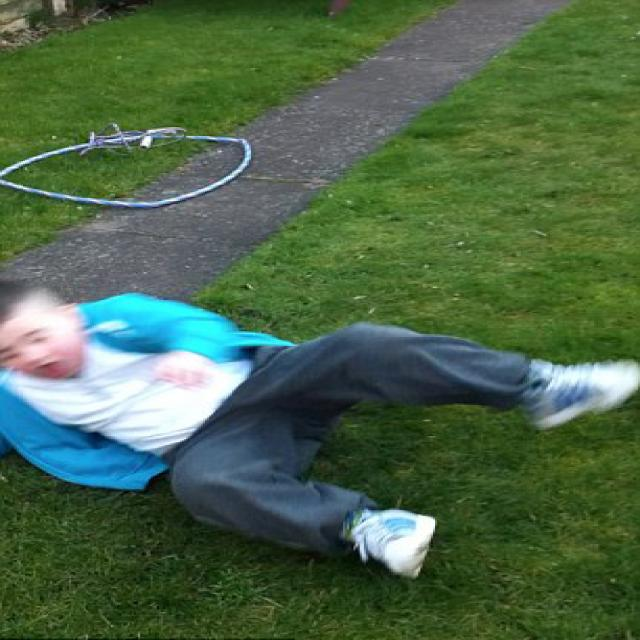fall: (0, 271, 611, 558)
